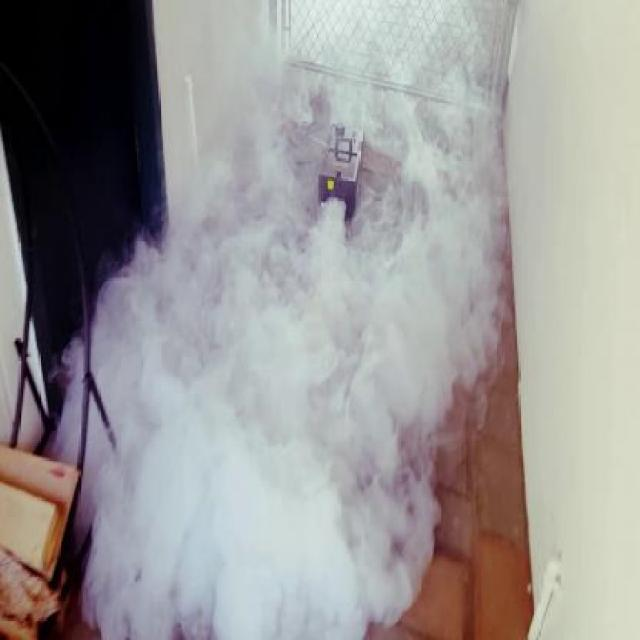smoke: (187, 24, 498, 547), (88, 215, 422, 640)
